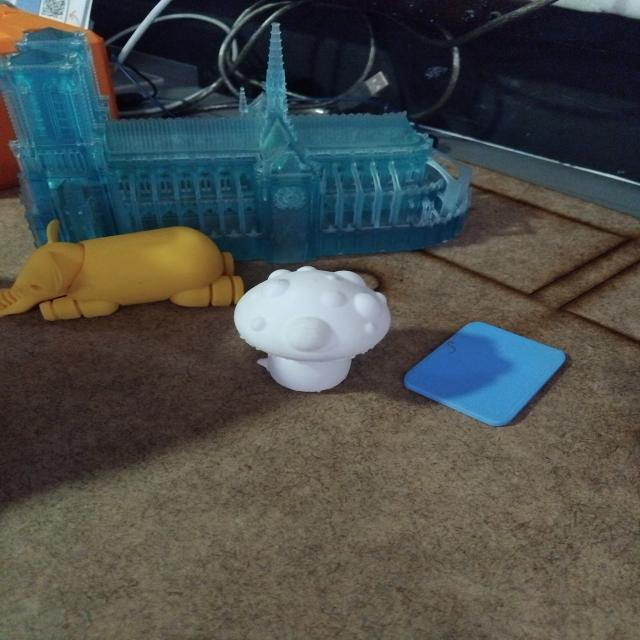Hongo: (228, 259, 399, 403)
